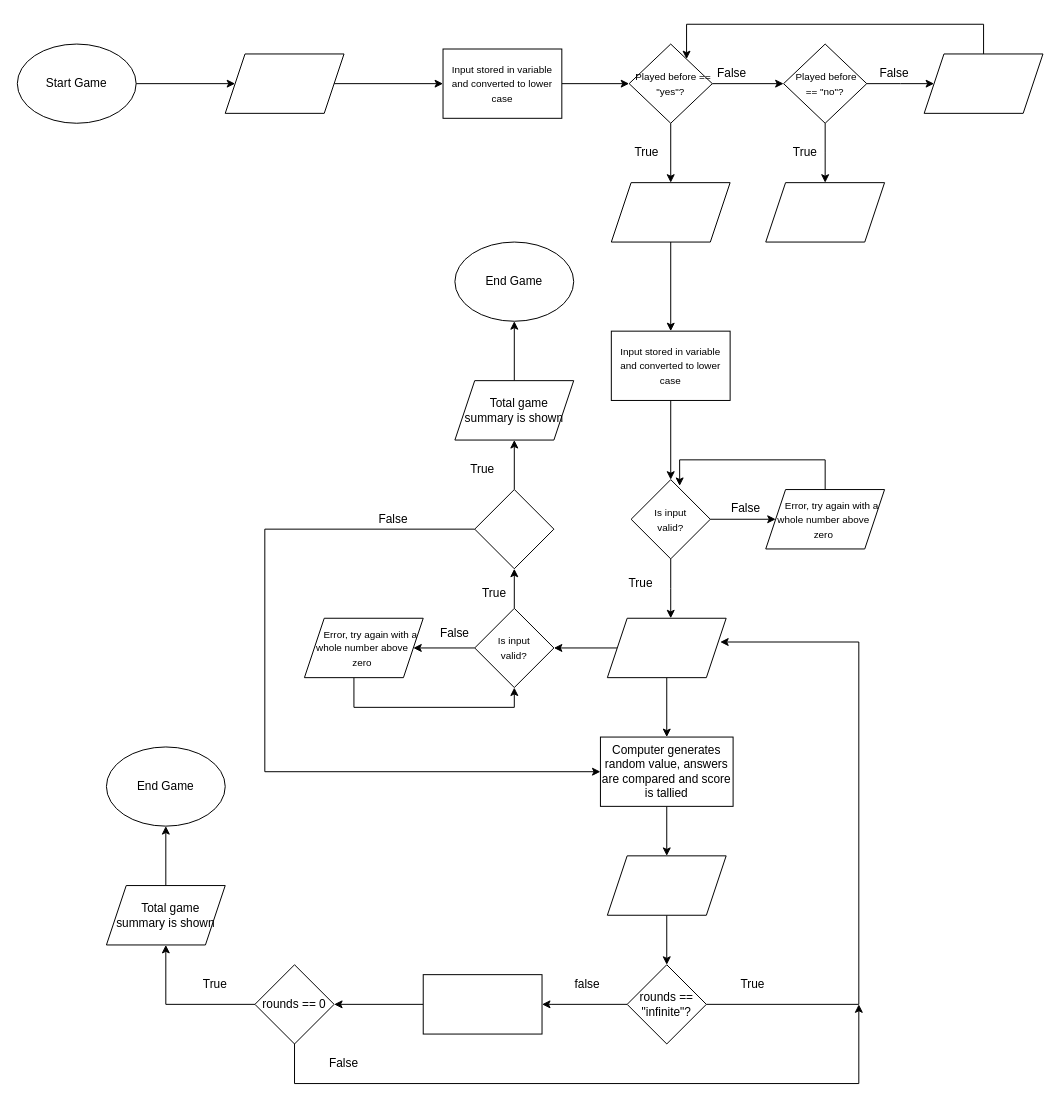
This 1060x1109 diagram has some shape labels left out. Here are the shapes that lost their labels. From the top down, the centre of each, then its label:
point 284,83: Have you played this game before?
point 983,83: Else display: Please answer with yes or no
point 670,212: How many rounds would you like to play?
point 825,212: Shows instructions of the game
point 514,529: if input == "xxx"
point 666,647: Enter rock / paper / scissors to play or xxx to quit
point 666,885: Result
point 482,1004: rounds - 1
